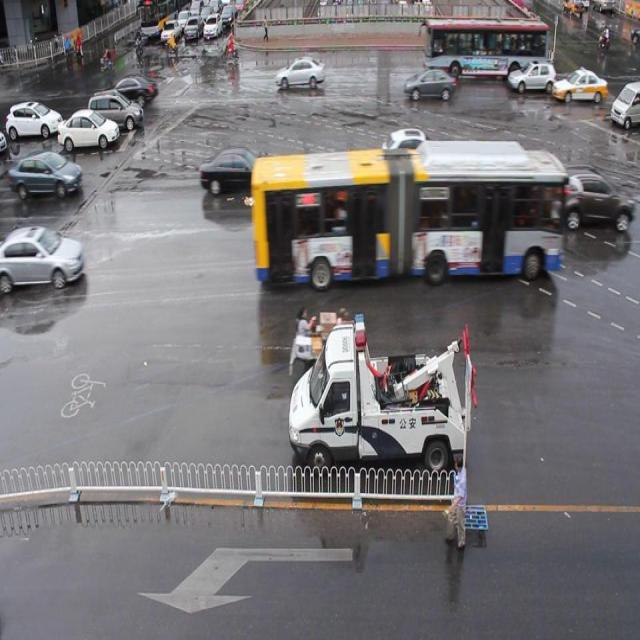car: (1, 224, 85, 287), (557, 165, 628, 231), (382, 127, 452, 181), (199, 146, 272, 196), (551, 66, 606, 105), (404, 67, 455, 104), (275, 55, 325, 91), (508, 58, 555, 94)
van: (250, 139, 563, 276), (422, 14, 547, 78)
